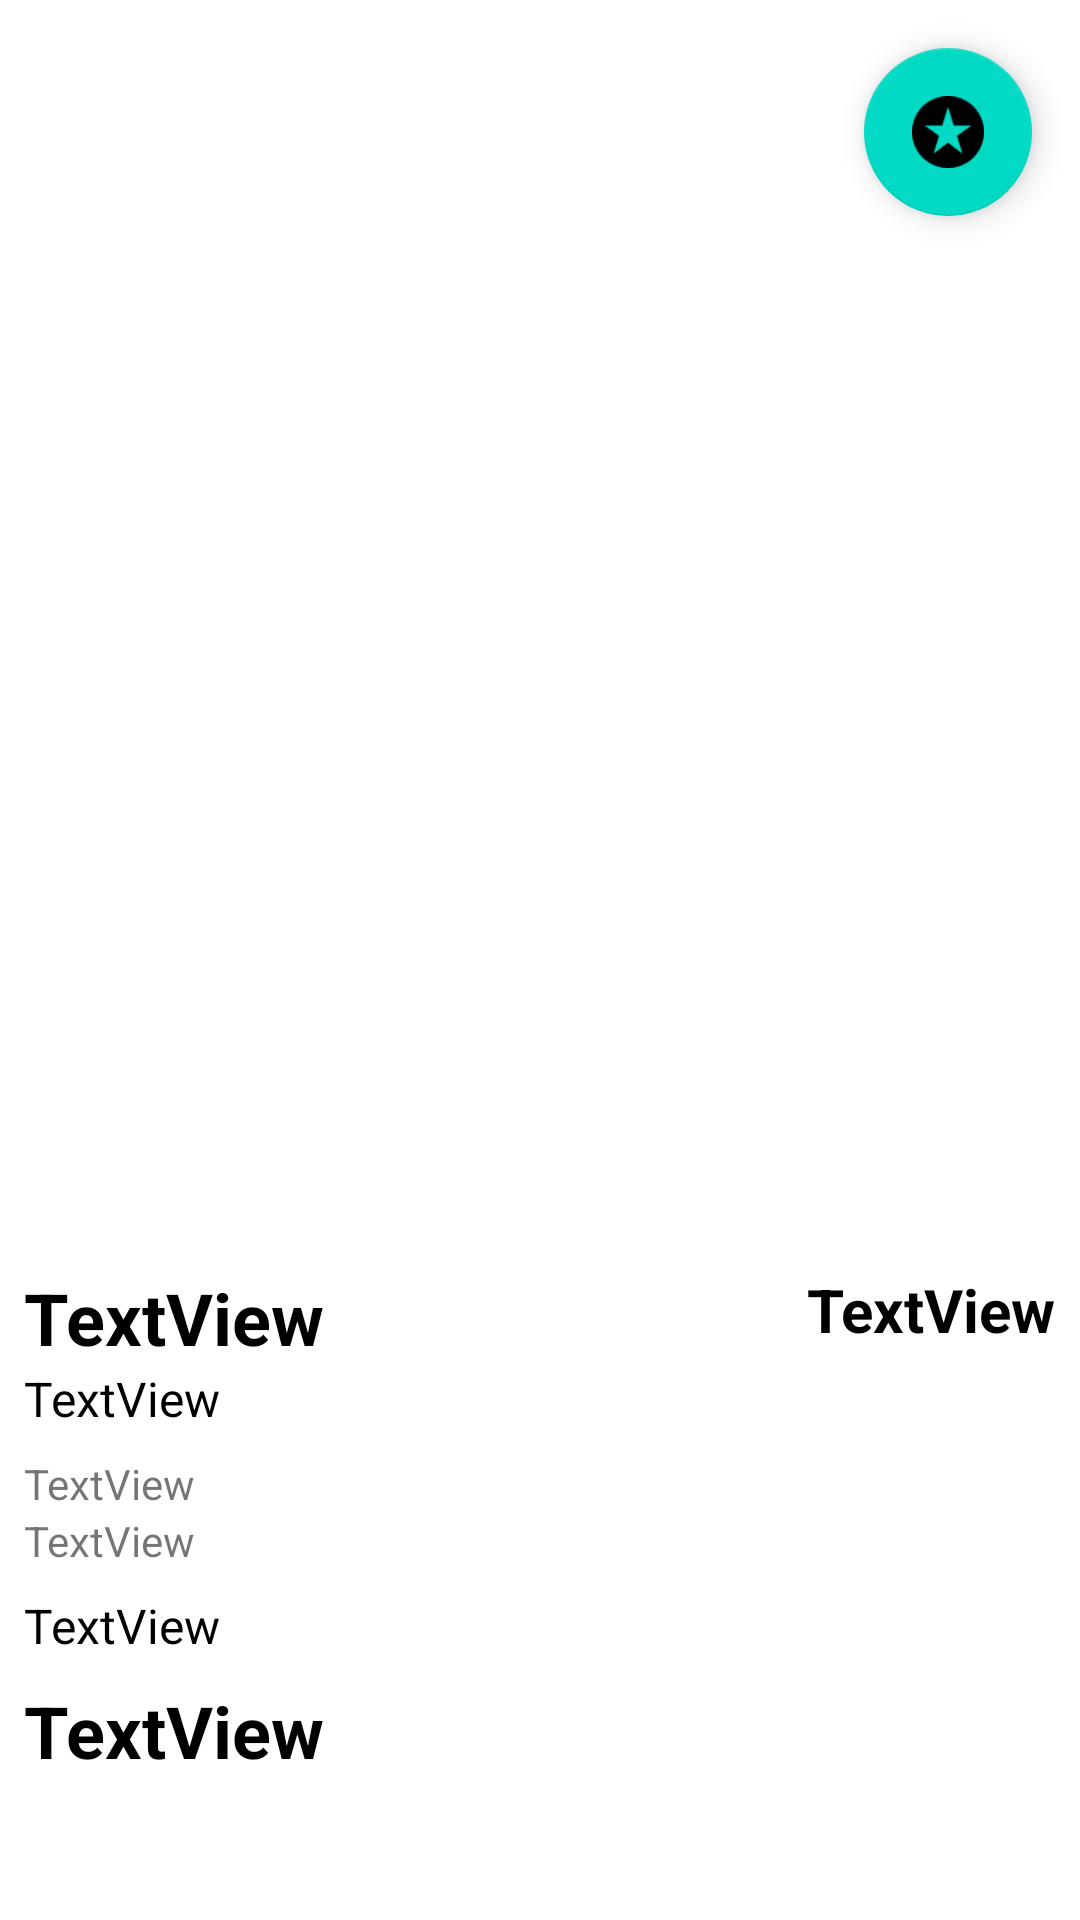

Named icons in this screenshot (1080*1920) and their bounding boxes, (x1, y1, x2, y2):
whitestar: (864, 48, 1032, 216)
